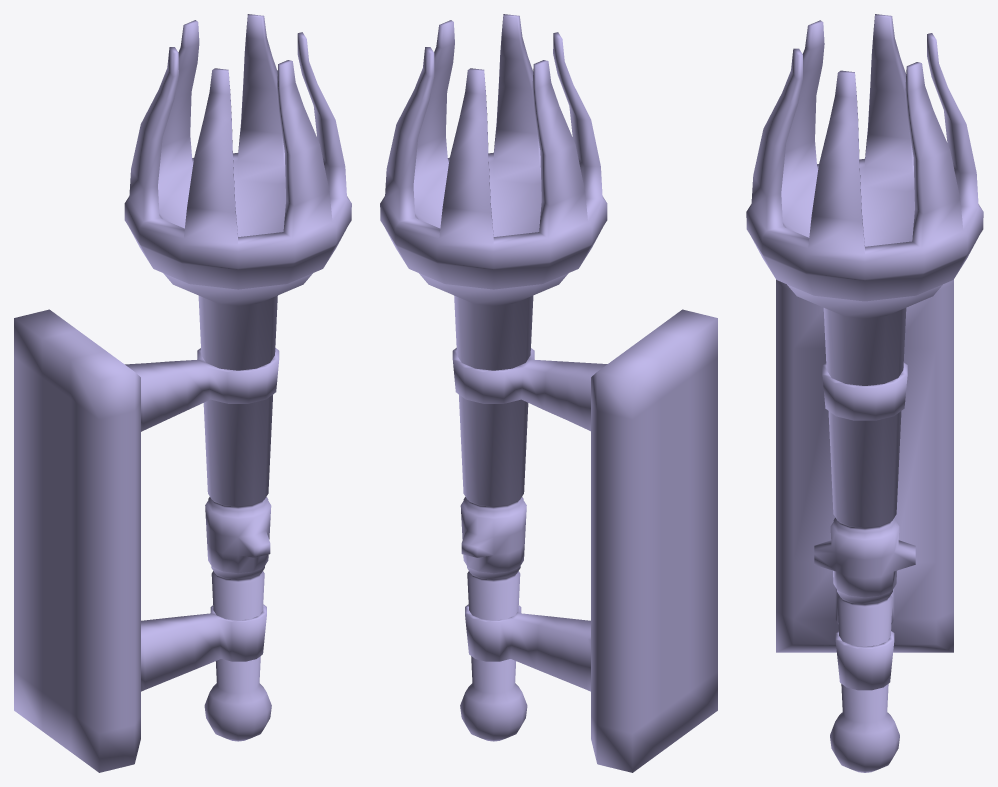
The model's file is Torch_Wall.fbx.
3 renders of one model, left to right at view 1: azimuth 30°, elevation 25°; view 2: azimuth 150°, elevation 25°; view 3: azimuth 270°, elevation 25°, orthographic. The views are drawn at different scales.
Visible parts, largest first — view 1: Torch_Body_LP, Wall_LP; view 2: Torch_Body_LP, Wall_LP; view 3: Torch_Body_LP, Wall_LP.
Boxes of the visible parts, x1=… form: Torch_Body_LP: x1=124, y1=14, x2=351, y2=741; Wall_LP: x1=14, y1=309, x2=279, y2=772; Torch_Body_LP: x1=380, y1=14, x2=607, y2=741; Wall_LP: x1=452, y1=309, x2=717, y2=772; Torch_Body_LP: x1=746, y1=14, x2=983, y2=772; Wall_LP: x1=776, y1=279, x2=953, y2=690.
Bounding box in the file's own units: 30.47 × 72.11 × 21.43.
